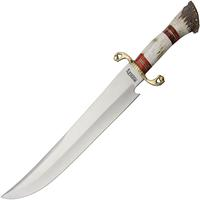knife: (1, 4, 195, 199)
